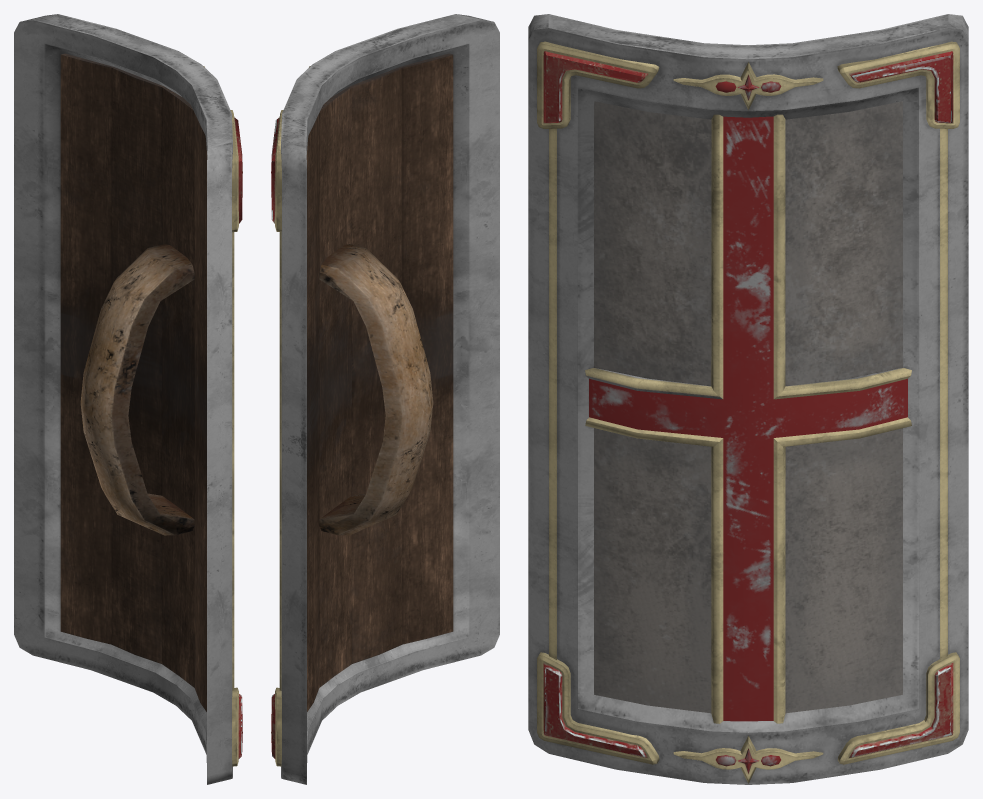
The model's file is arthur_shield.fbx.
3 renders of one model, left to right at view 1: azimuth 30°, elevation 25°; view 2: azimuth 150°, elevation 25°; view 3: azimuth 270°, elevation 25°, orthographic. The views are drawn at different scales.
Parts seen in each view (by area): view 1: Plane.005; view 2: Plane.005; view 3: Plane.005.
Part boxes in pixels (box(x1,y1,x2,y2)): Plane.005: box(14, 14, 242, 784); Plane.005: box(271, 14, 499, 784); Plane.005: box(528, 14, 968, 784).
Bounding box in the file's own units: 24.39 × 120 × 66.03.
1 material, 1 textured.
